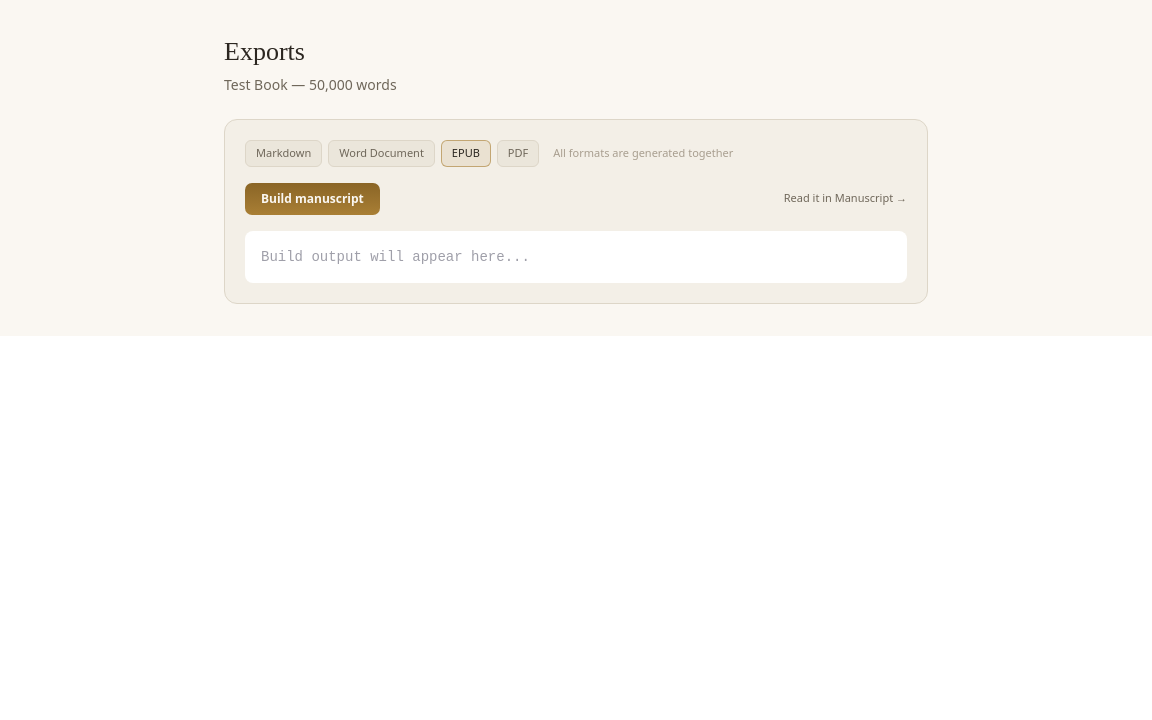
Test: ExportsView › exports a zip and reports the saved path
Step 1. Click the button "Build manuscript" → {"x": 312, "y": 198}, box [245,182,380,214]
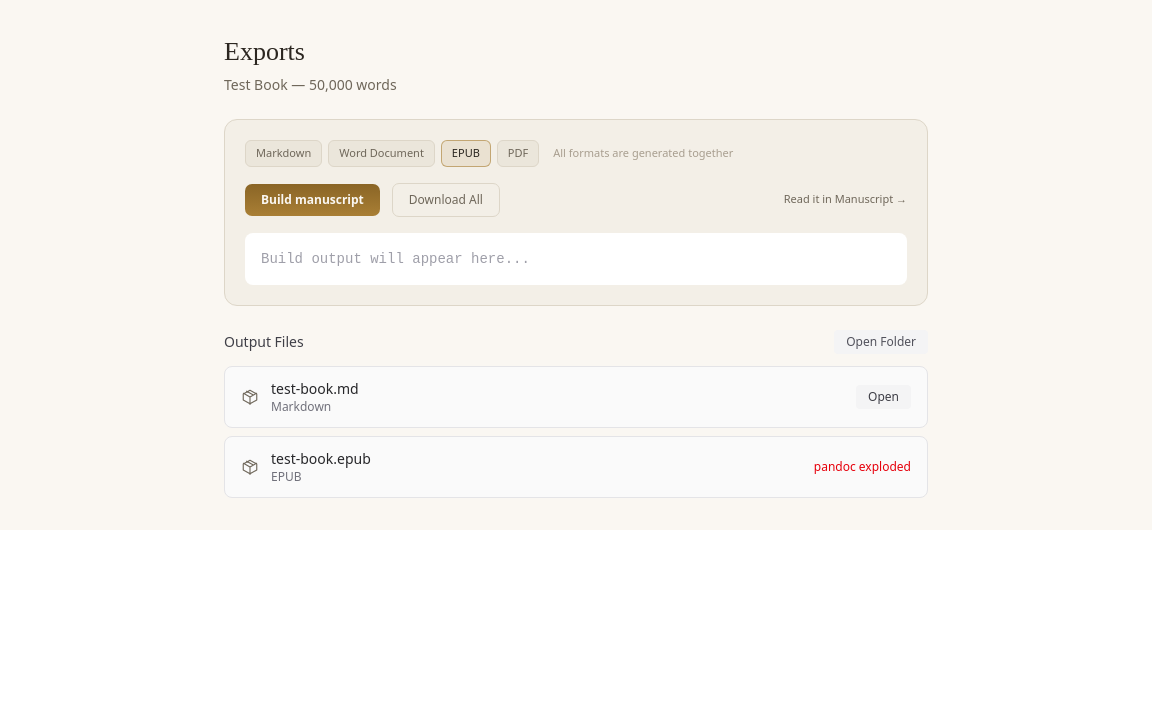
Step 2. Click the button "Download All" → {"x": 446, "y": 200}, box [392,182,500,216]
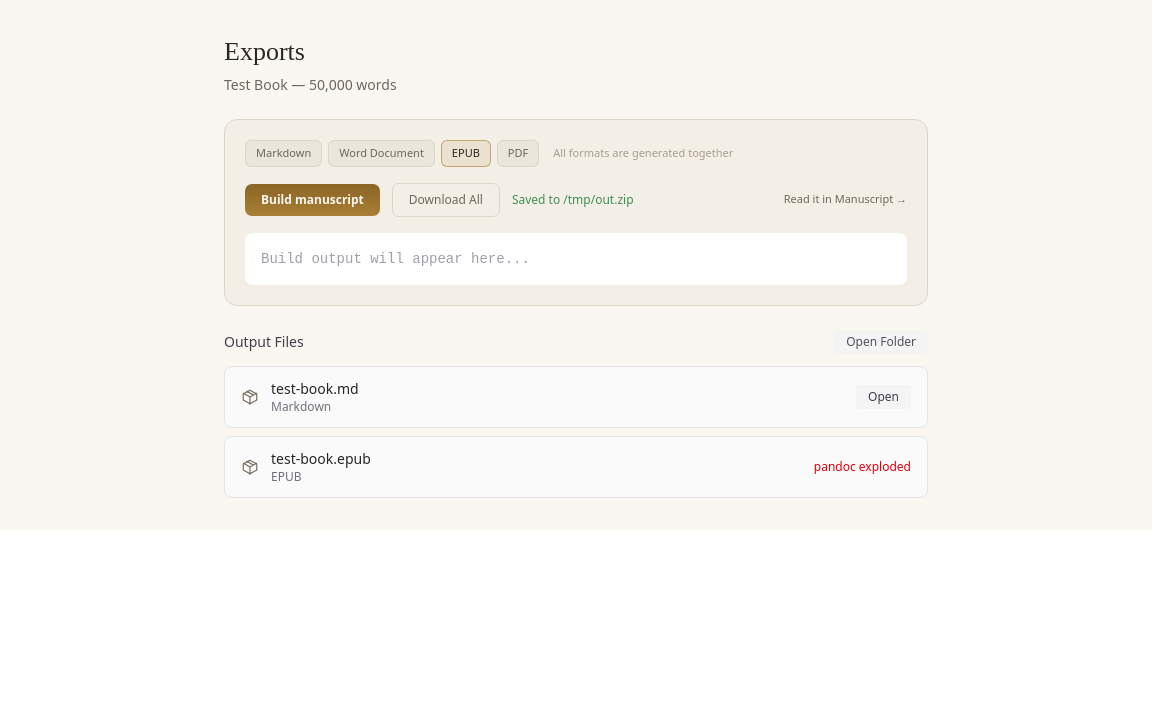
Expected: the text "Saved to /tmp/out.zip" is shown, [512,192,634,208]
